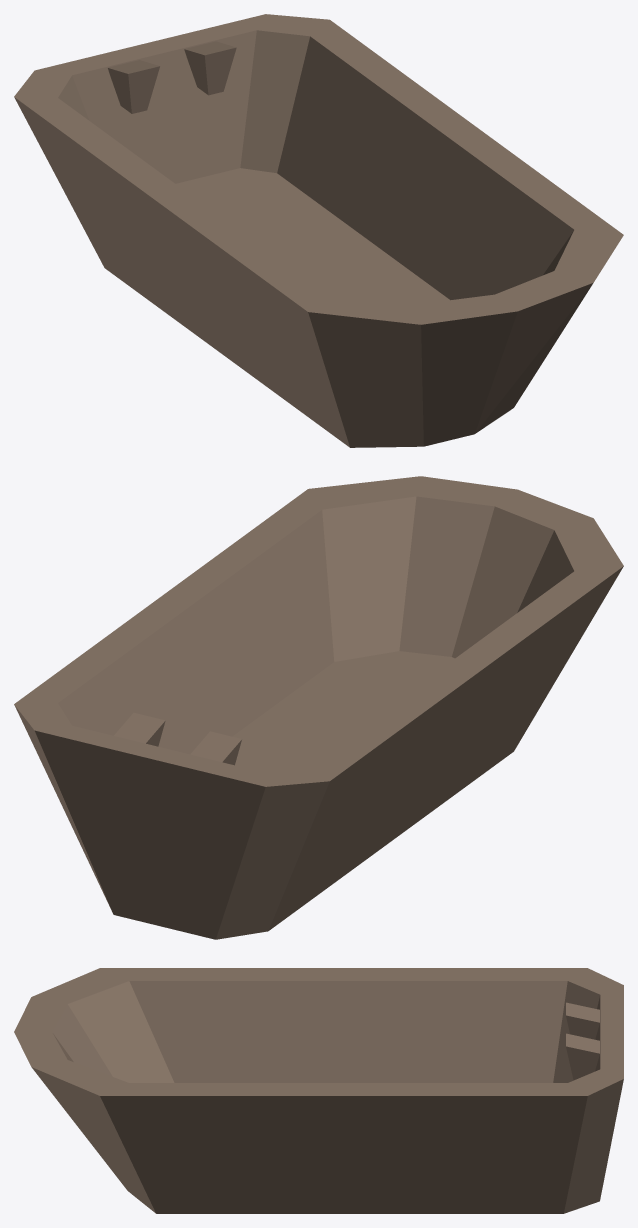
File: Bath_Phys.fbx
3 renders of one model, top to bottom at view 1: azimuth 30°, elevation 25°; view 2: azimuth 150°, elevation 25°; view 3: azimuth 270°, elevation 25°, orthographic. The views are drawn at different scales.
Visible parts, largest first — view 1: Bath_Phys; view 2: Bath_Phys; view 3: Bath_Phys.
Part boxes in pixels (bbox=[...]): Bath_Phys: bbox=[14, 14, 623, 447]; Bath_Phys: bbox=[14, 476, 623, 939]; Bath_Phys: bbox=[14, 968, 623, 1213].
Bounding box in the file's own units: 109 × 219 × 61.49.
